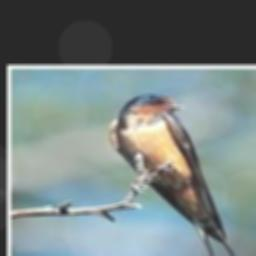Swallow: (109, 94, 245, 256)
